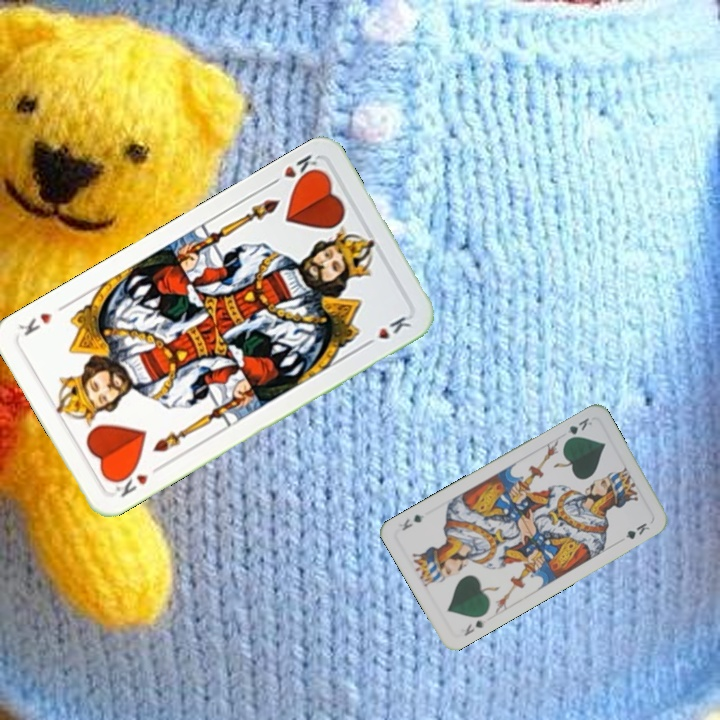GK: (561, 413, 595, 444), (460, 616, 487, 639)
HK: (265, 150, 324, 189), (109, 461, 164, 500)
